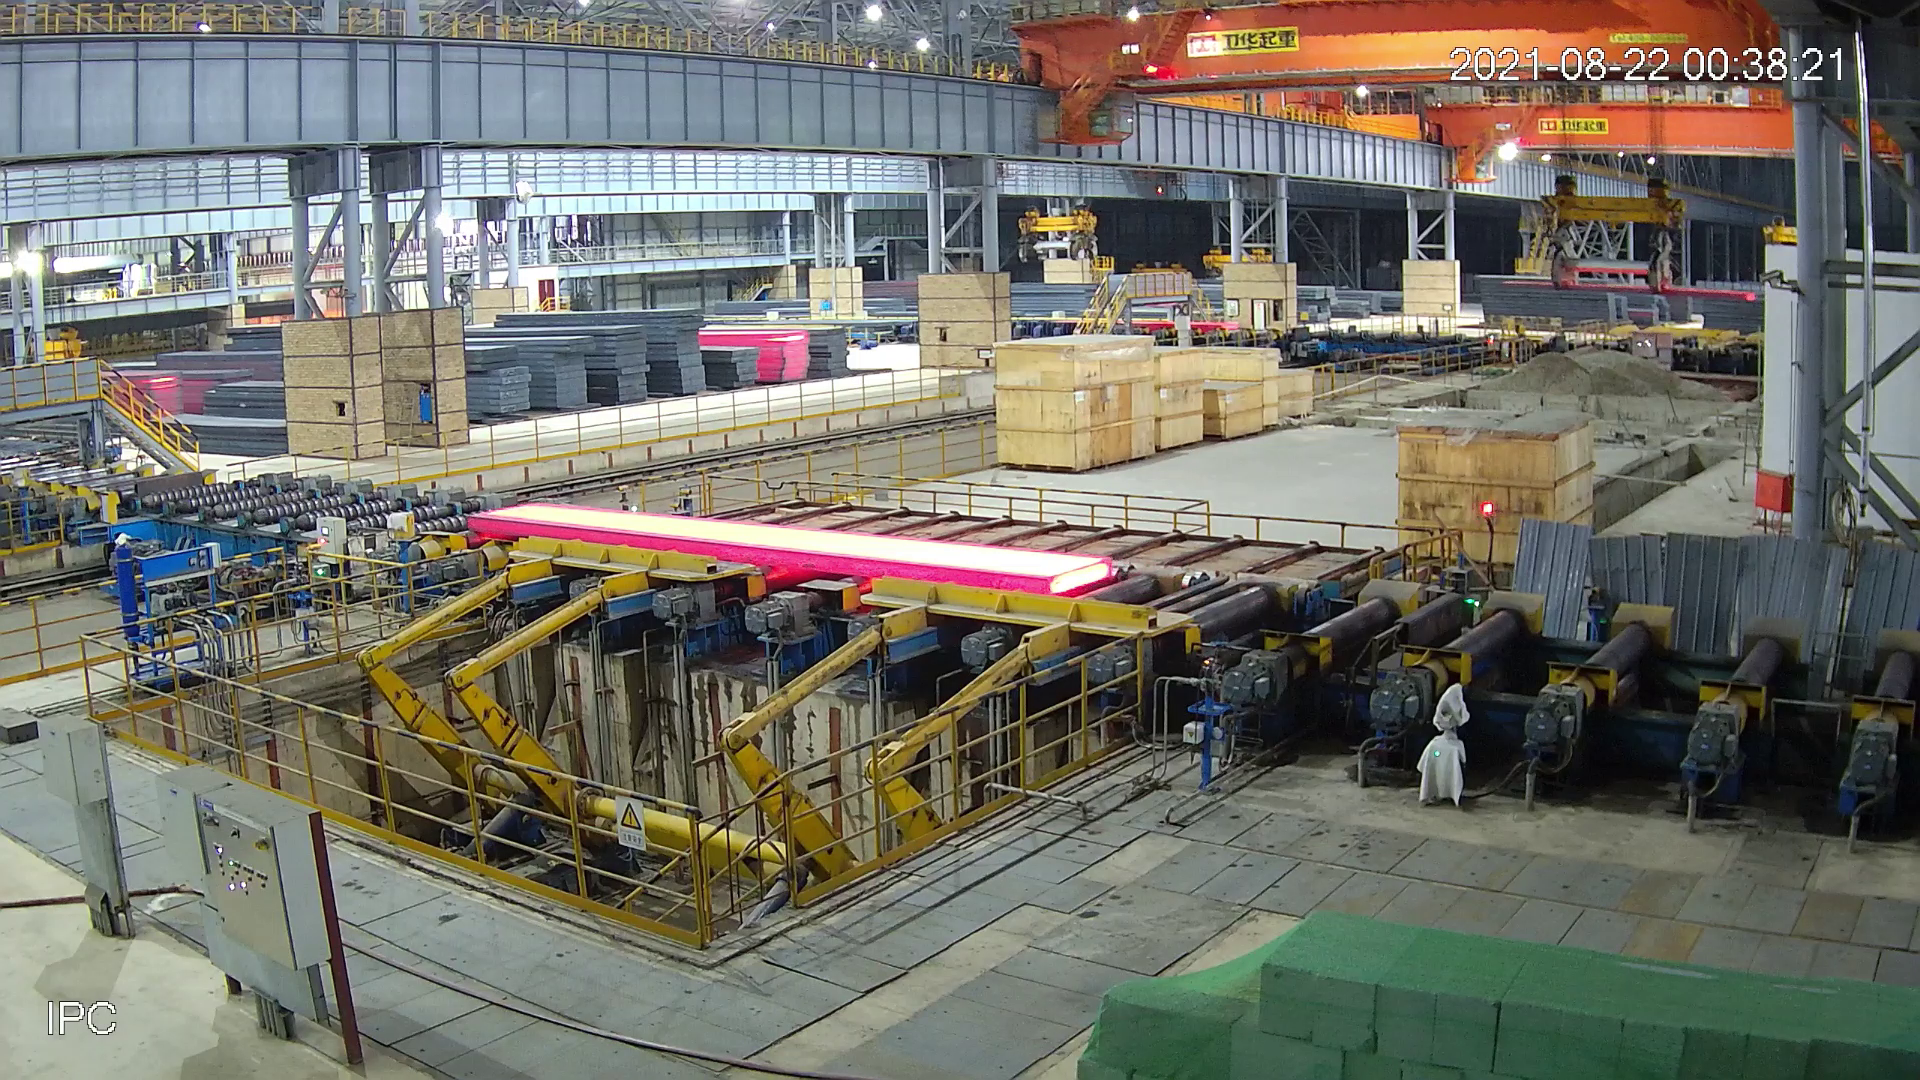slab: (458, 496, 1116, 603)
